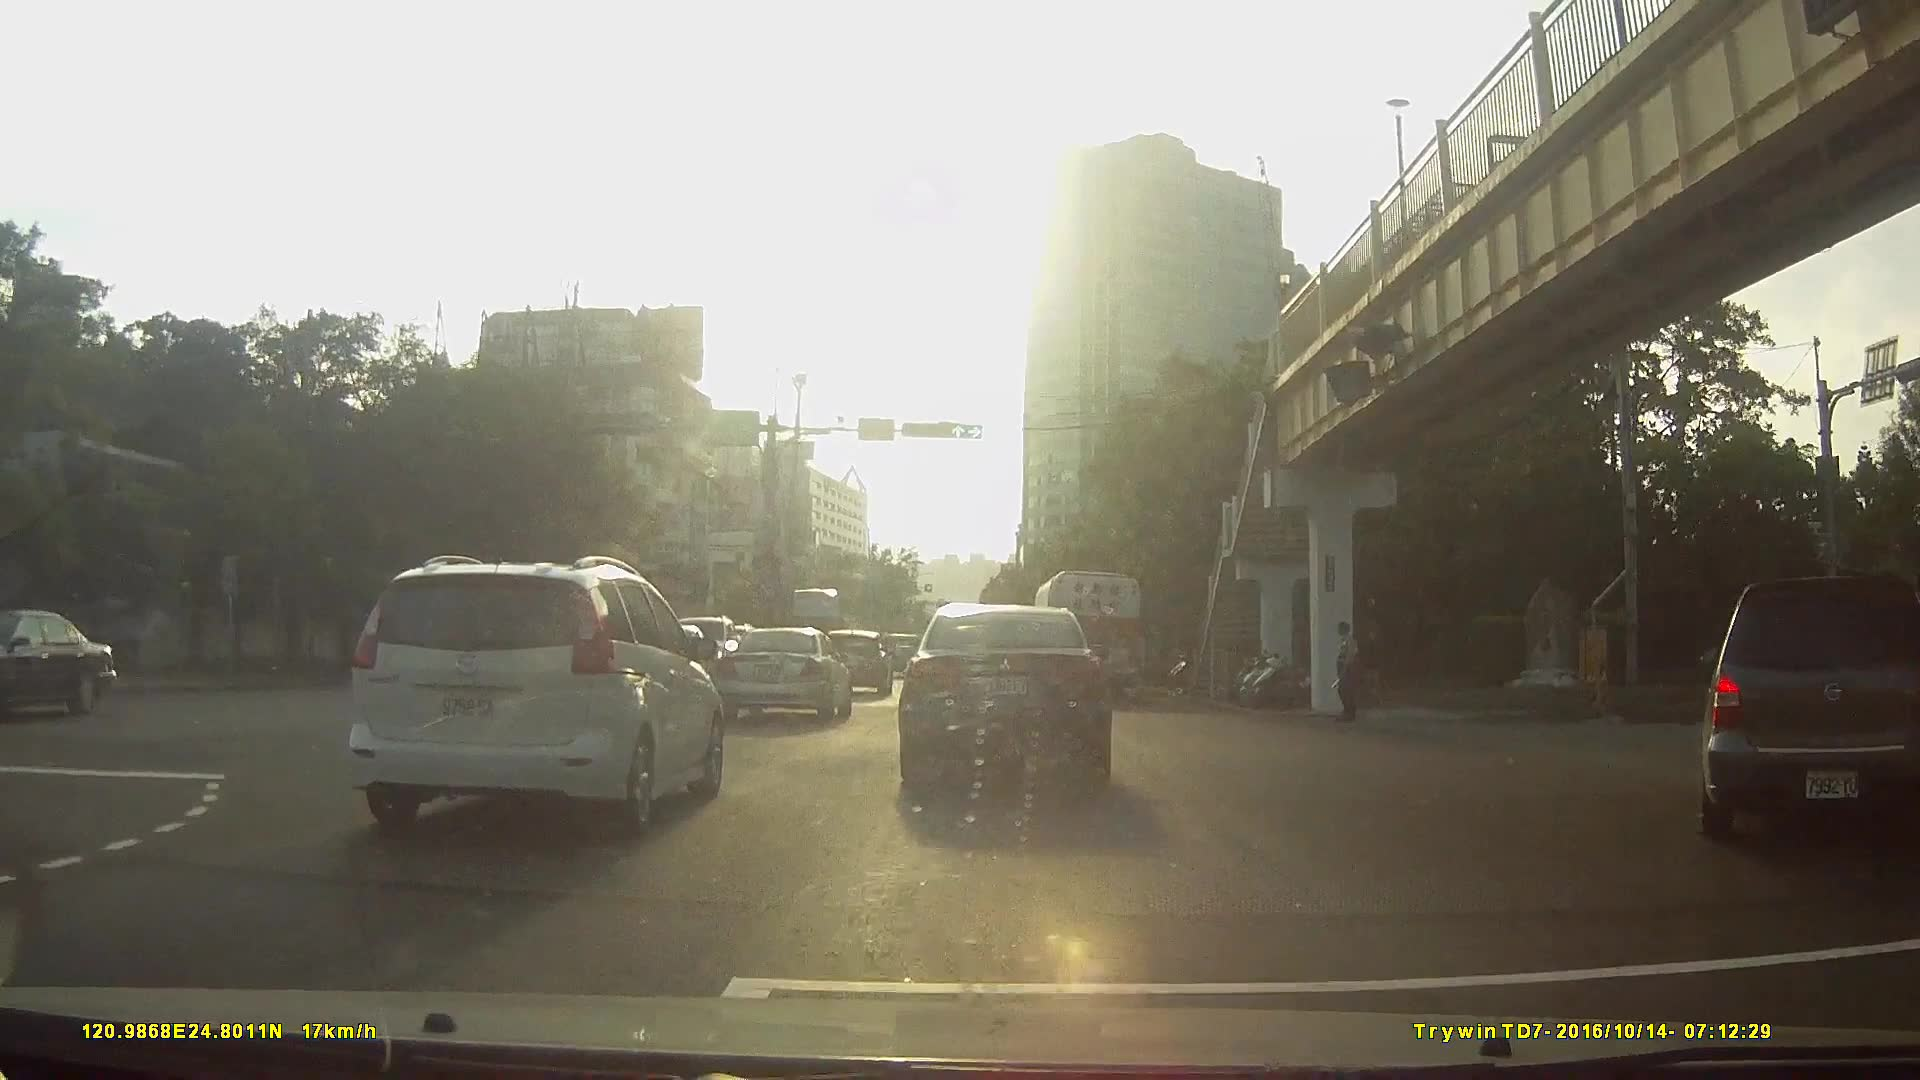pedestrian: (1330, 614, 1370, 726)
vehicle: (344, 550, 722, 834), (1700, 572, 1920, 847), (899, 600, 1113, 797), (1030, 568, 1139, 703), (1, 615, 137, 721), (715, 625, 854, 722), (814, 625, 888, 695)
